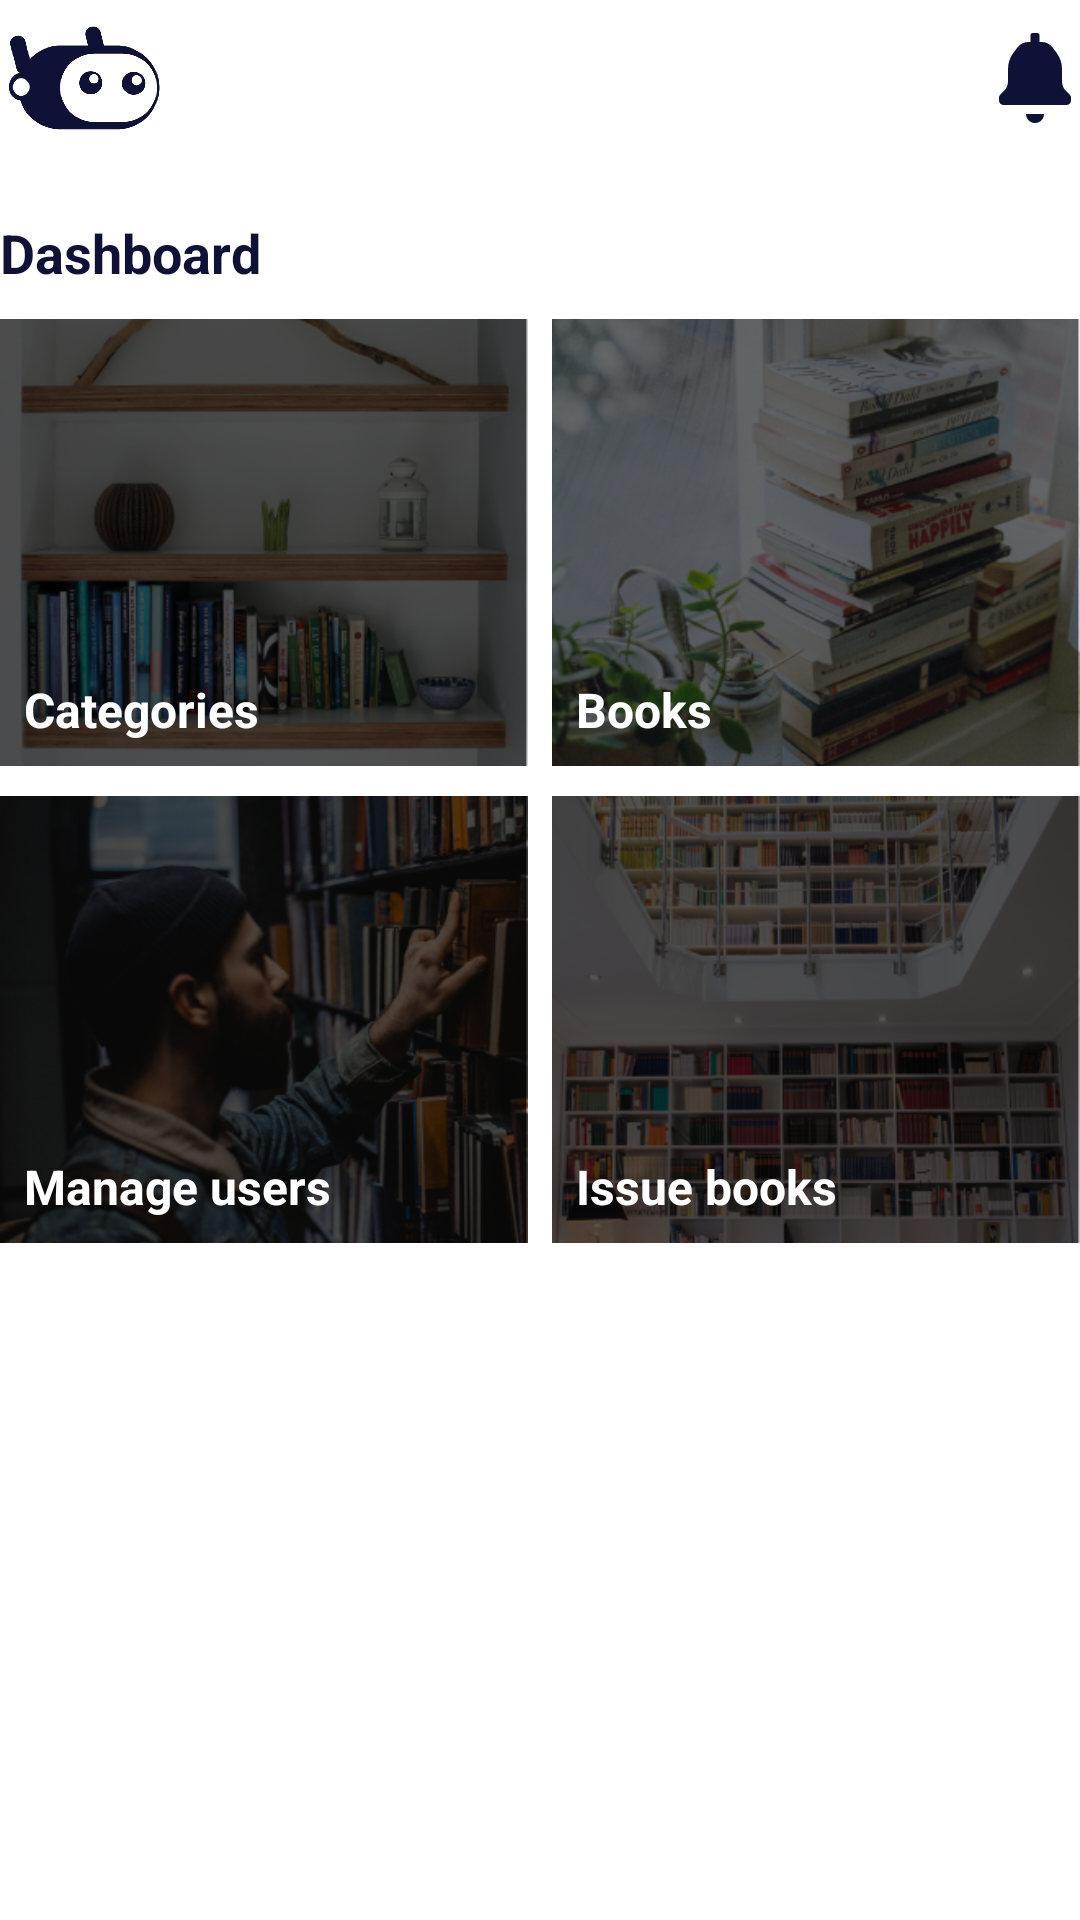

Icon bounding boxes for this 1080 x 1920 phone screenshot, format (x1=x1, y1=y1, x2=x2, y2=y2):
Notification icon: (x1=999, y1=33, x2=1071, y2=123)
